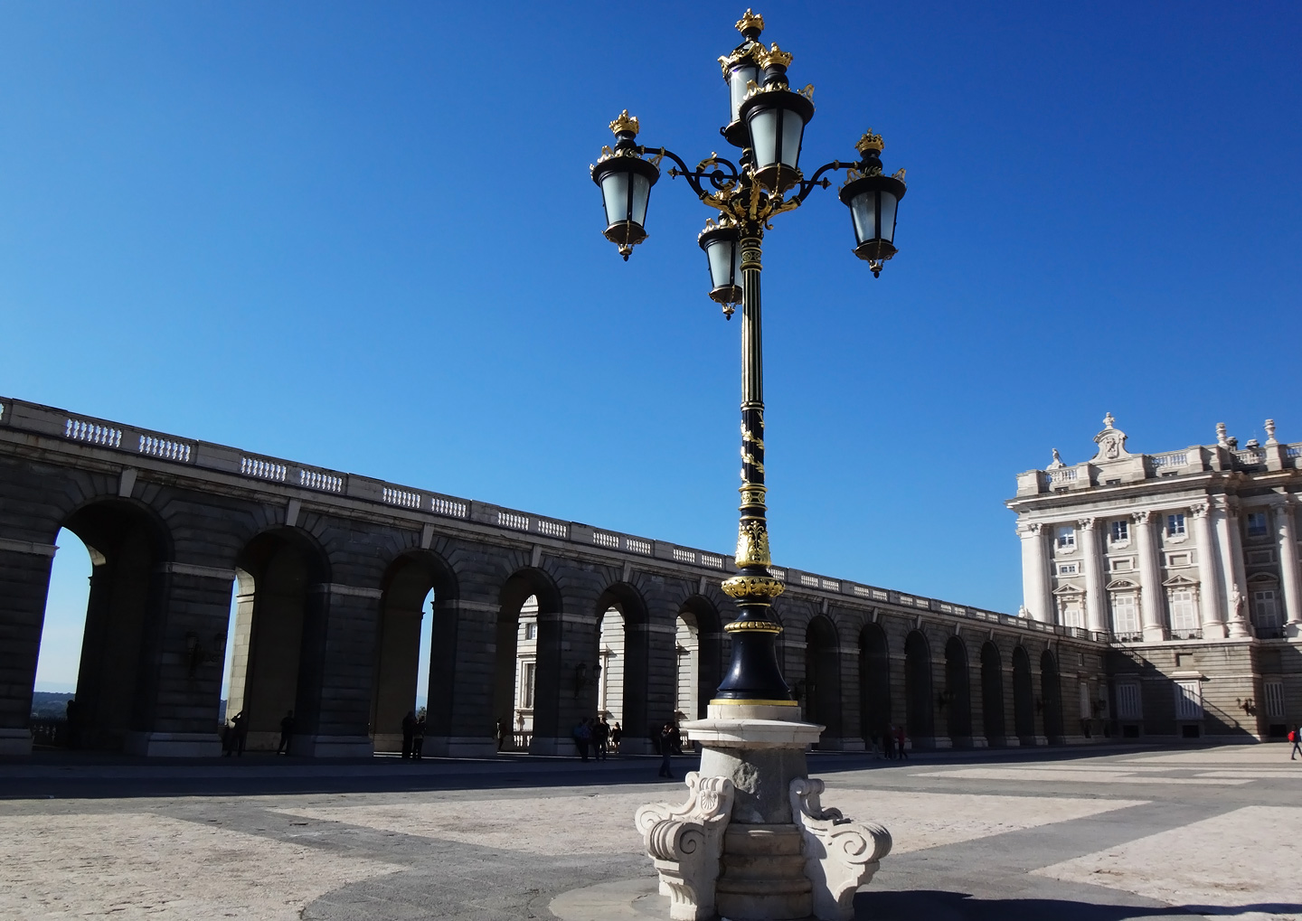fachada: (0, 400, 1302, 757)
poste: (570, 0, 913, 921)
